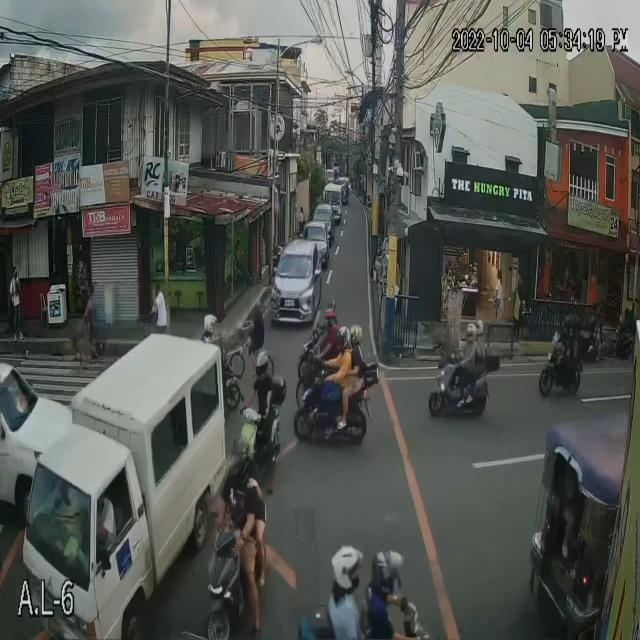Full-Faced: (228, 454, 246, 486), (253, 348, 270, 377), (346, 316, 362, 344), (234, 434, 249, 462), (203, 309, 217, 338), (337, 323, 350, 352), (473, 318, 484, 338), (466, 324, 475, 342)
Half-Faced: (372, 546, 407, 606), (326, 538, 362, 596)
